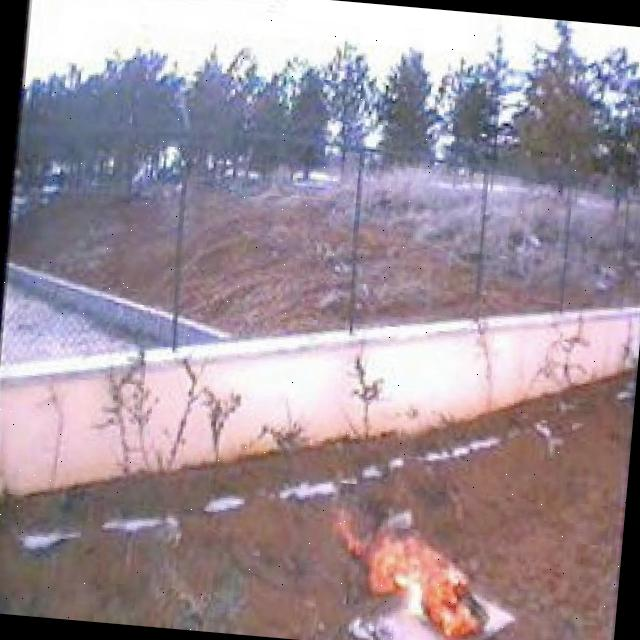fire: (325, 506, 506, 640)
